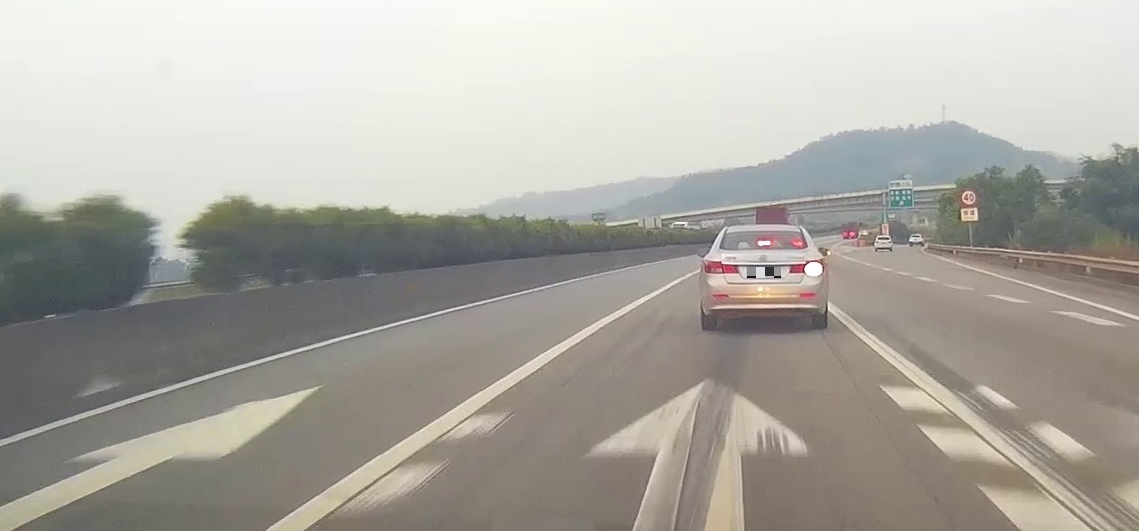L_light: (704, 259, 739, 274)
R_light: (790, 260, 824, 276)
T_light: (757, 240, 771, 246)
day-right: (699, 225, 828, 330)
plate_1: (747, 267, 781, 278)
